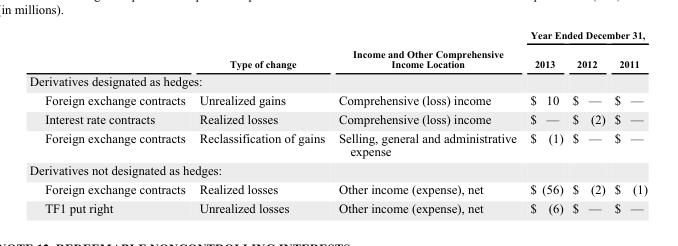table: (28, 28, 646, 215)
table column: (331, 28, 522, 215), (28, 28, 191, 215), (191, 28, 331, 215), (522, 28, 567, 215), (567, 28, 609, 215), (609, 28, 646, 215)
table column header: (28, 28, 646, 71)
table projected row header: (28, 71, 646, 90), (28, 160, 646, 179)
table row: (28, 128, 646, 160), (28, 49, 646, 71), (28, 28, 646, 49), (28, 71, 646, 90), (28, 90, 646, 109), (28, 109, 646, 128), (28, 160, 646, 179), (28, 179, 646, 198), (28, 198, 646, 215)
table spanning cell: (331, 28, 522, 71), (191, 28, 331, 71), (522, 28, 646, 49)
